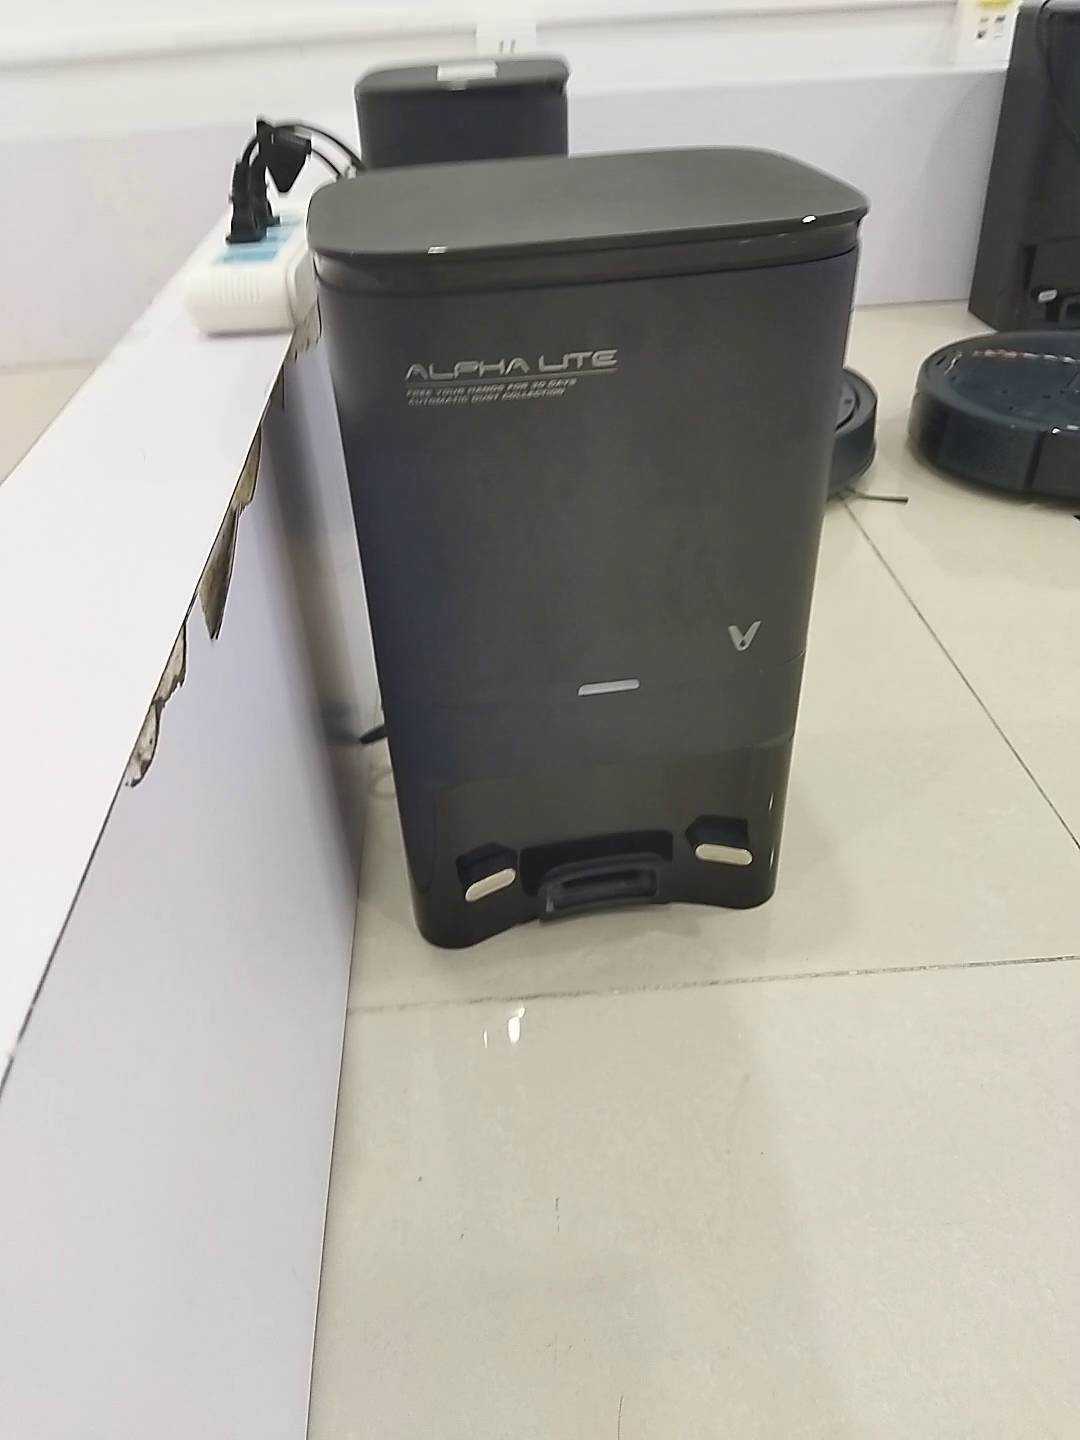dust collecting barrel: (304, 144, 871, 948)
